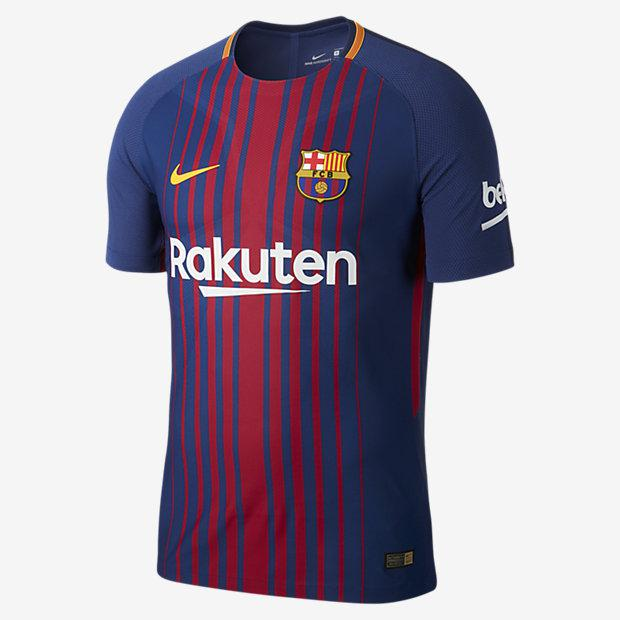teeshirt: (77, 15, 547, 619)
